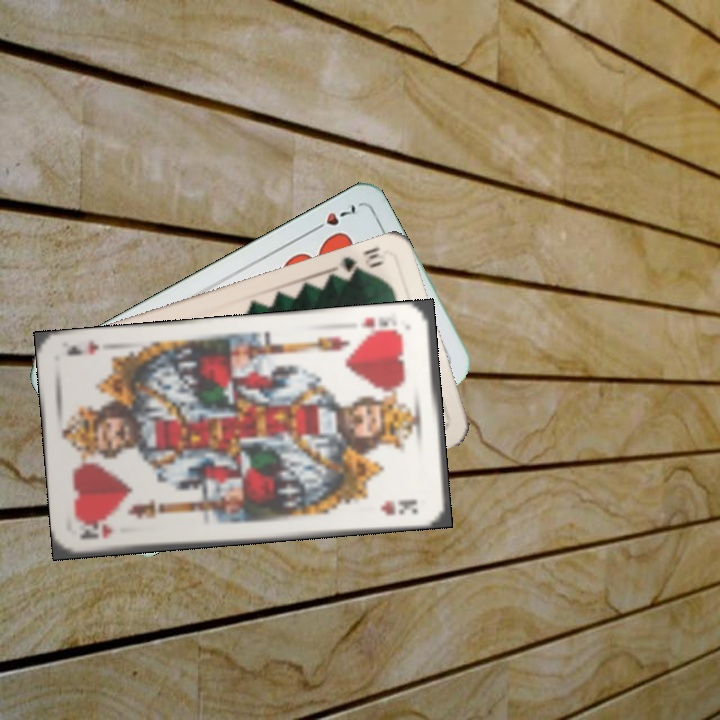G10: (330, 243, 389, 278)
H7: (306, 200, 359, 236)
HK: (356, 312, 405, 339), (76, 520, 115, 543)
